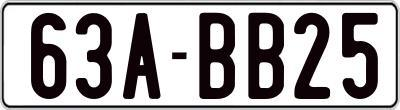2: (292, 11, 332, 103)
3: (75, 11, 116, 97)
5: (340, 13, 379, 103)
6: (31, 11, 71, 101)
A: (120, 11, 160, 97)
B: (247, 10, 287, 97), (197, 12, 233, 104)
